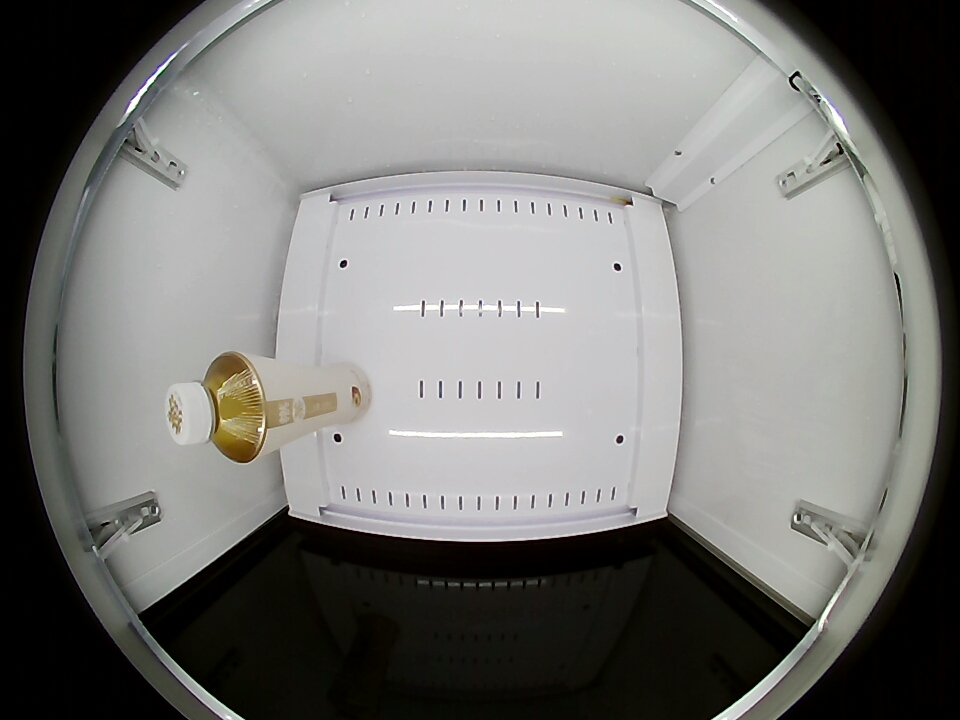rancha-2: (166, 352, 271, 463)
